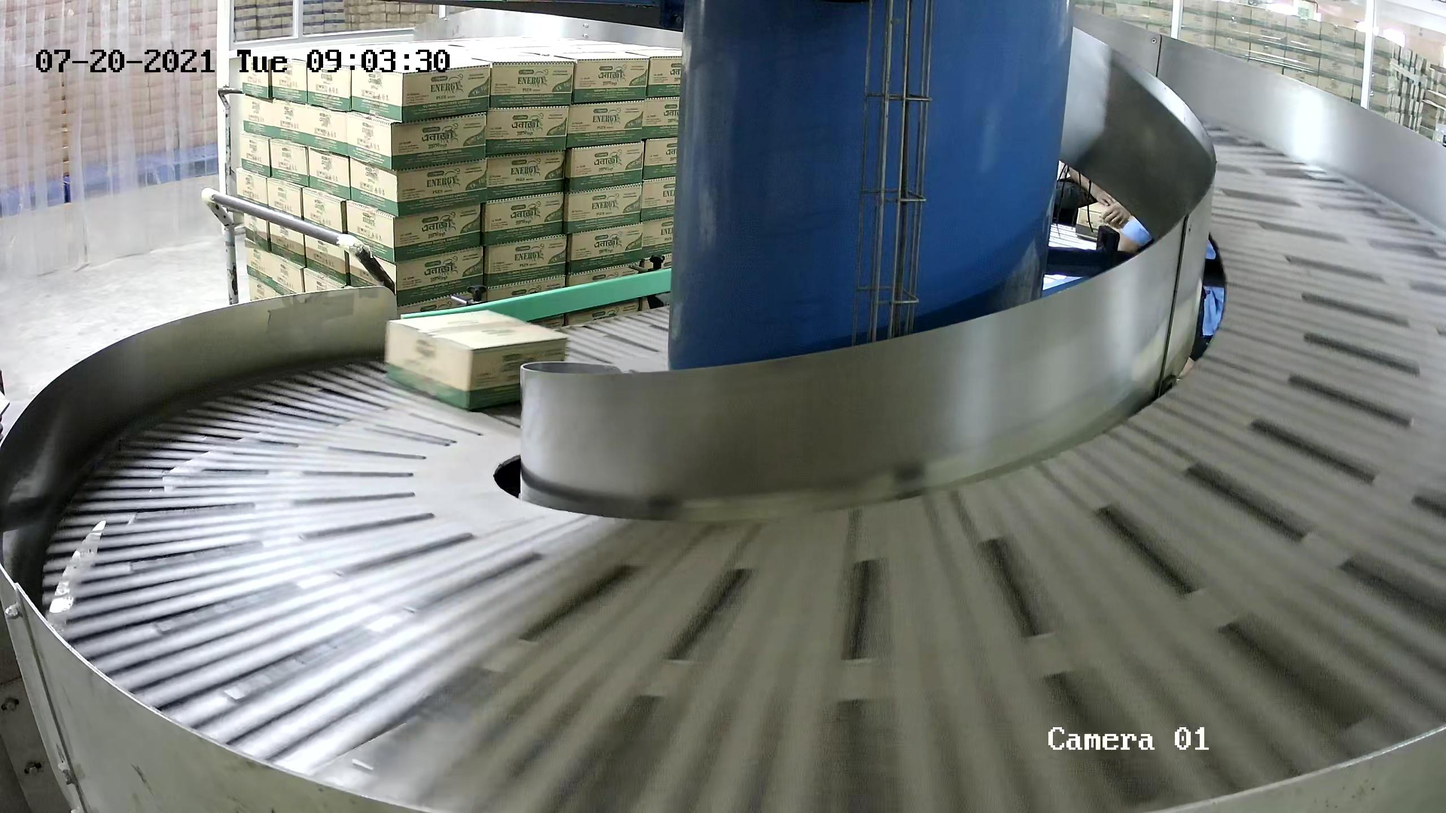Box: (383, 306, 570, 417)
